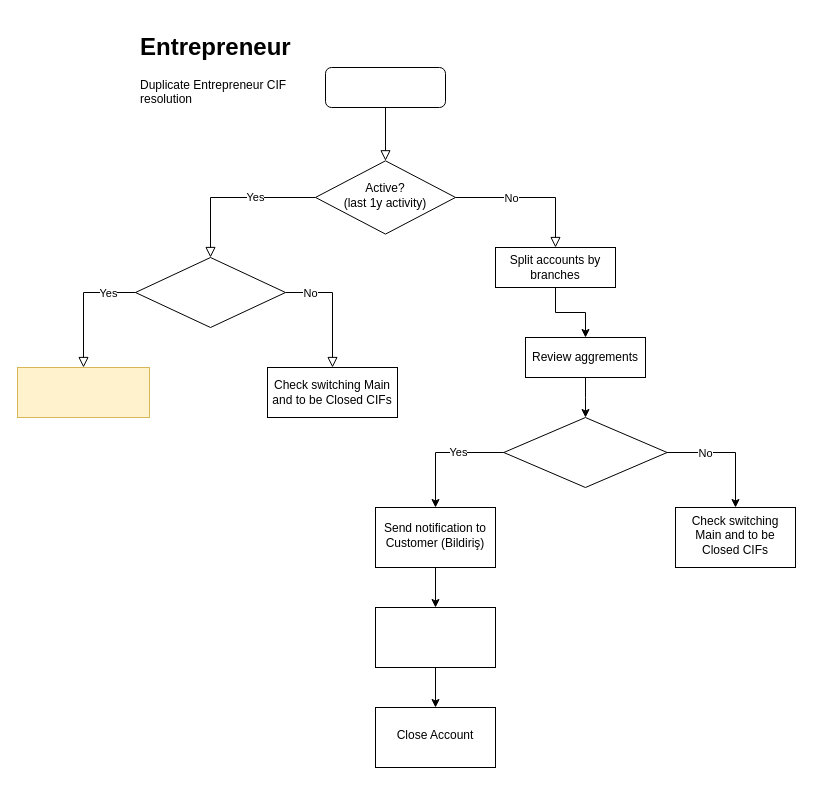
Some shapes in this 813 by 785 pixel diagram are drawn without their labels. The shapes that lost their labels are listed below. From the top down, each one's box as (x1, y1, x2, y2) in pixels, then its label:
(324, 66, 446, 108): Duplicate CIF having Entrepreneur Account
(134, 256, 286, 328): Main CIF has Entrepreneur account?
(503, 416, 667, 488): Inactivity point exists in aggrement?
(374, 606, 496, 668): Inform Vergiler
